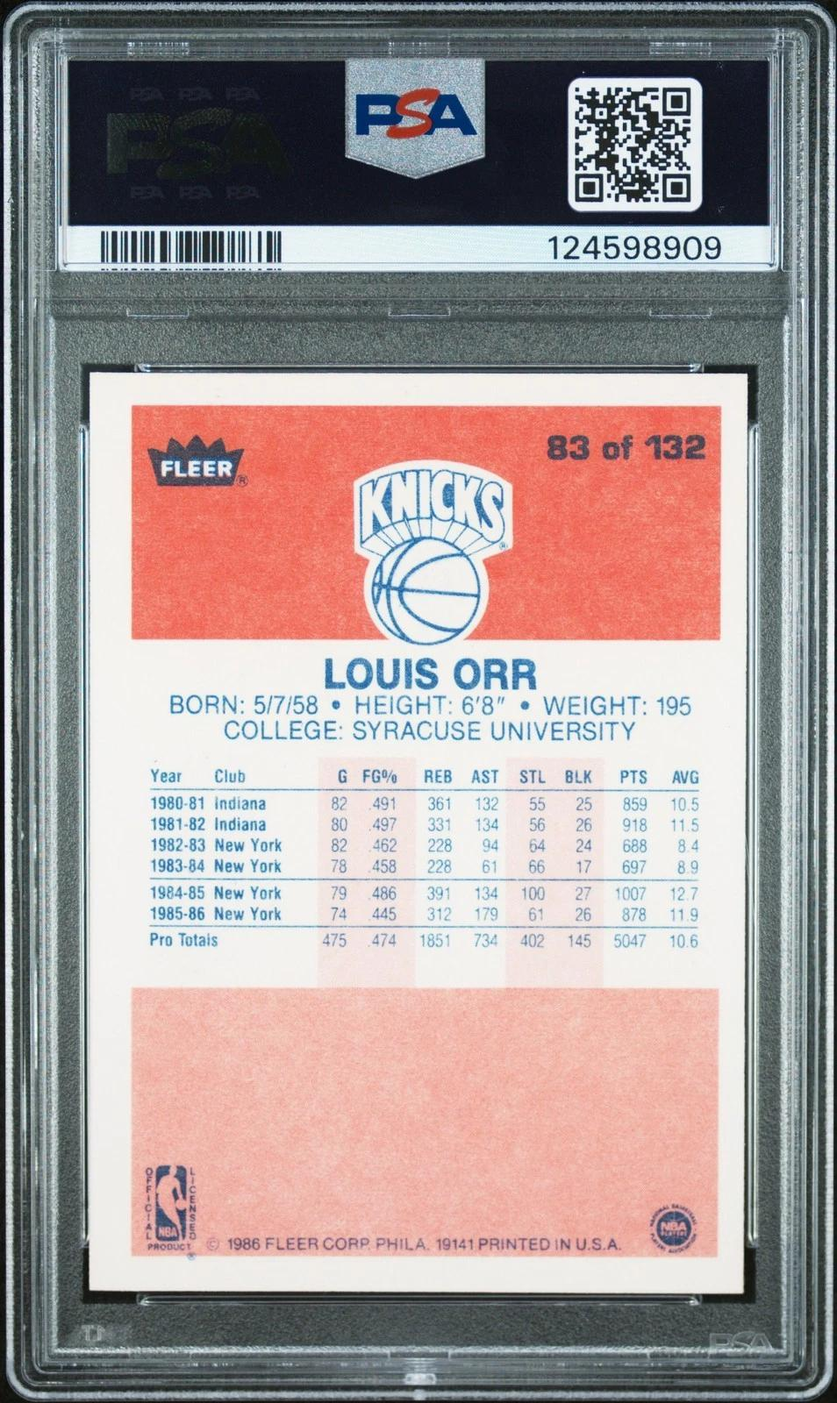card-2UtV: (88, 372, 749, 1294)
